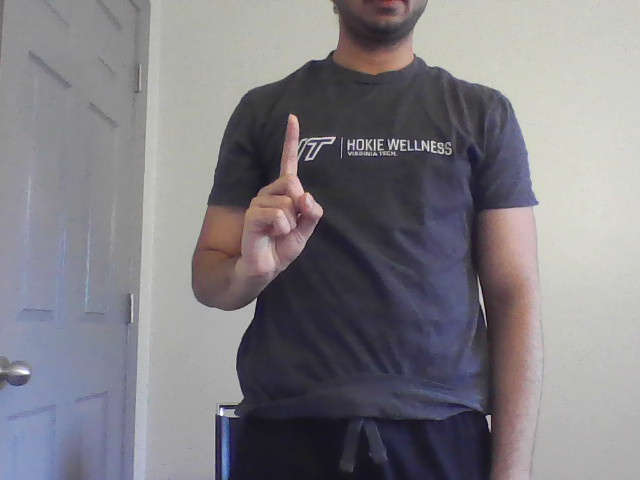one: (240, 110, 324, 280)
